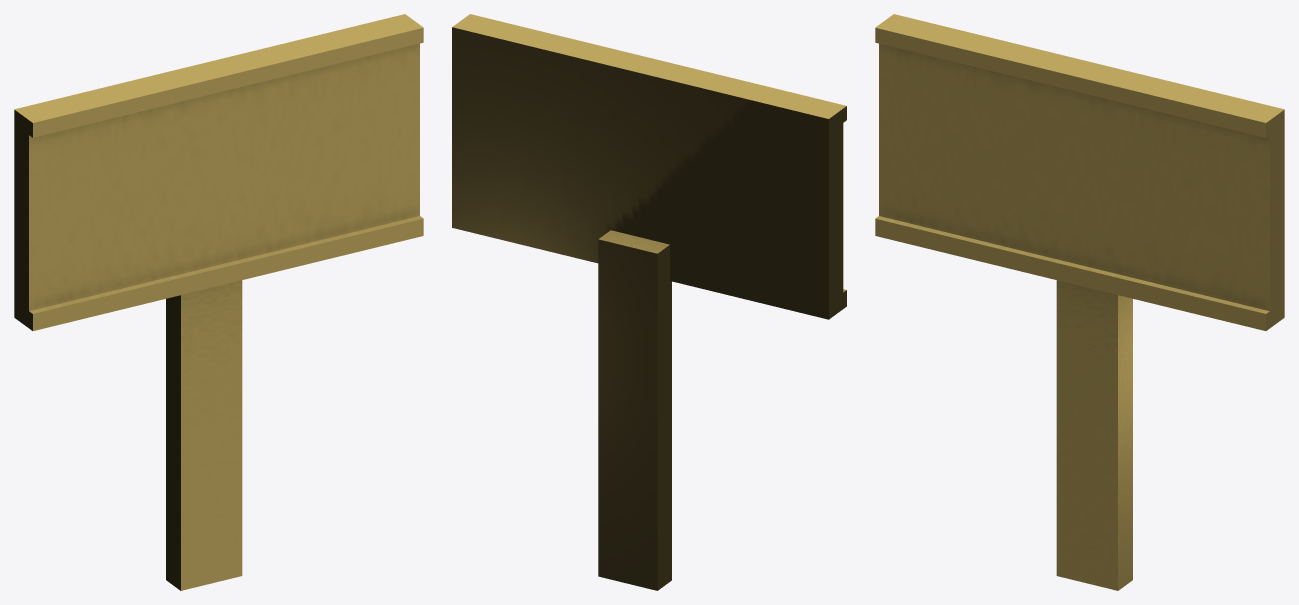
Rendered from scoreBoard.fbx.
The picture shows the model from 3 angles, left to right: view 1: azimuth 30°, elevation 25°; view 2: azimuth 150°, elevation 25°; view 3: azimuth 330°, elevation 25°; orthographic projection. The views are drawn at different scales.
Visible parts, largest first — view 1: Cube; view 2: Cube; view 3: Cube.
Part boxes in pixels (x1,y1,x2,y2): Cube: [14, 14, 423, 590]; Cube: [452, 14, 846, 590]; Cube: [875, 14, 1284, 590].
Bounding box in the file's own units: 1236 × 1572 × 174.
